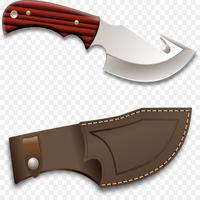knife: (1, 2, 197, 85)
